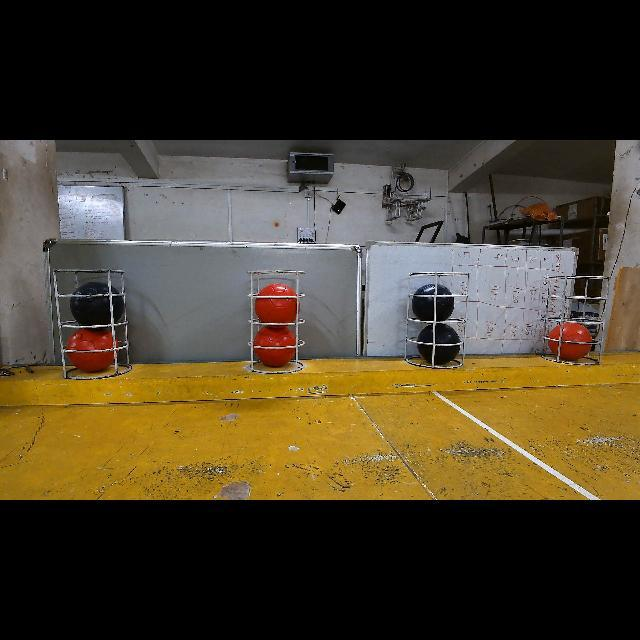P: (70, 281, 125, 326), (418, 322, 461, 365), (411, 284, 455, 321)
R: (65, 328, 119, 372), (254, 326, 296, 368), (255, 282, 296, 324), (548, 322, 592, 361)
S: (243, 259, 314, 387), (55, 264, 131, 381), (404, 266, 464, 376), (546, 272, 600, 368)
